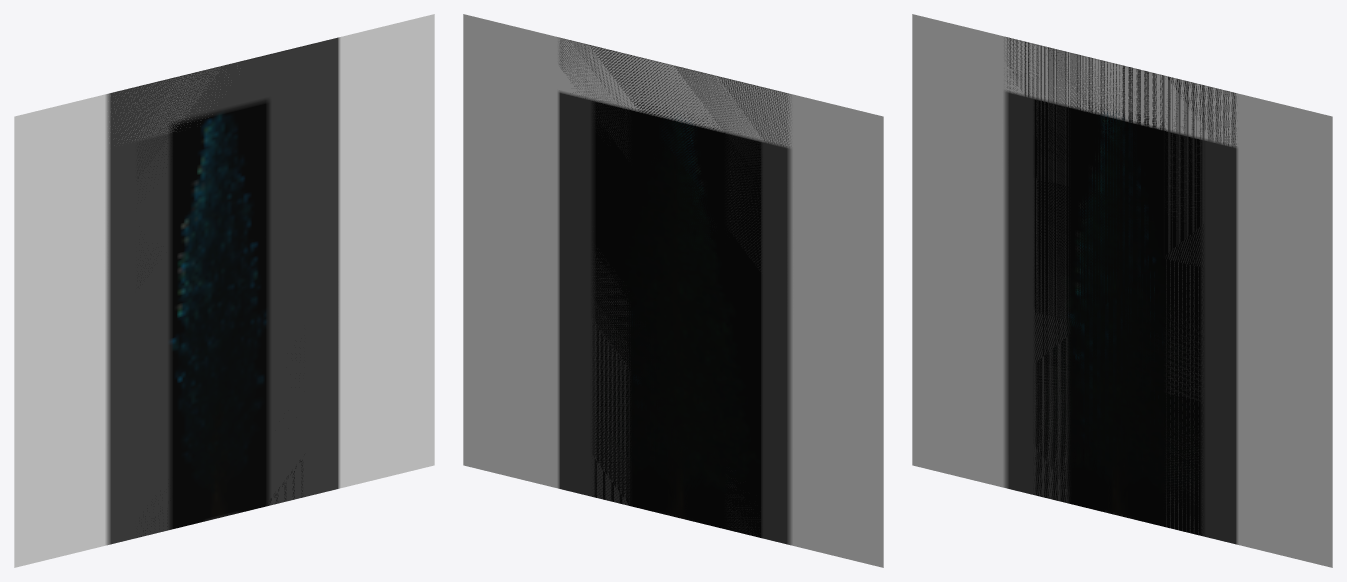
Rendered from trees.fbx.
3 renders of one model, left to right at view 1: azimuth 30°, elevation 25°; view 2: azimuth 150°, elevation 25°; view 3: azimuth 330°, elevation 25°, orthographic.
Parts seen in each view (by area): view 1: polySurface3, polySurface2; view 2: polySurface2, polySurface3; view 3: polySurface2, polySurface3.
Part boxes in pixels (x1,y1,x2,y2): polySurface3: (14,14,434,567); polySurface2: (14,71,420,536); polySurface2: (463,14,883,567); polySurface3: (463,14,883,537); polySurface2: (912,14,1332,567); polySurface3: (912,14,1332,536).
Size of the model in its own units: 1.02 by 1.05 by 3.81e-17.
Materials: 1 (1 with a texture image).
